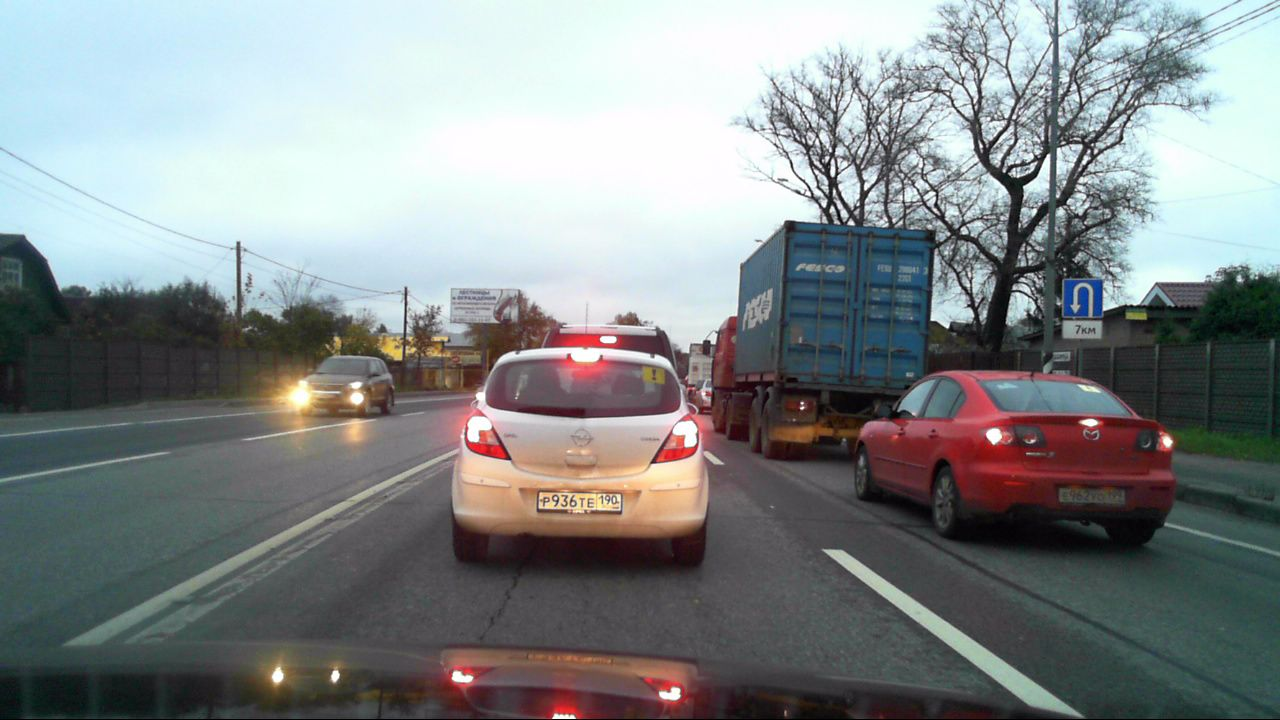U-turn: (1063, 279, 1103, 318)
